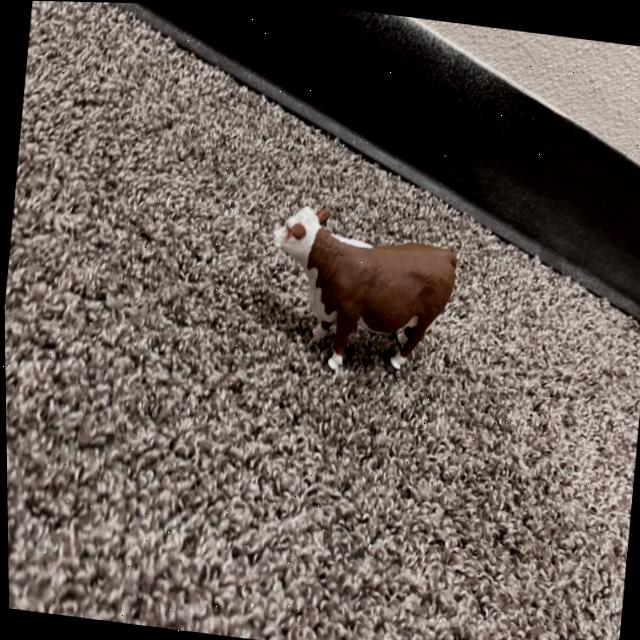cow: (238, 193, 463, 397)
